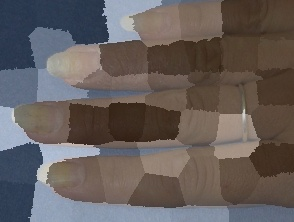Nail_psoriasis: (45, 47, 100, 85), (10, 101, 60, 135), (35, 160, 78, 192), (118, 11, 161, 39)
